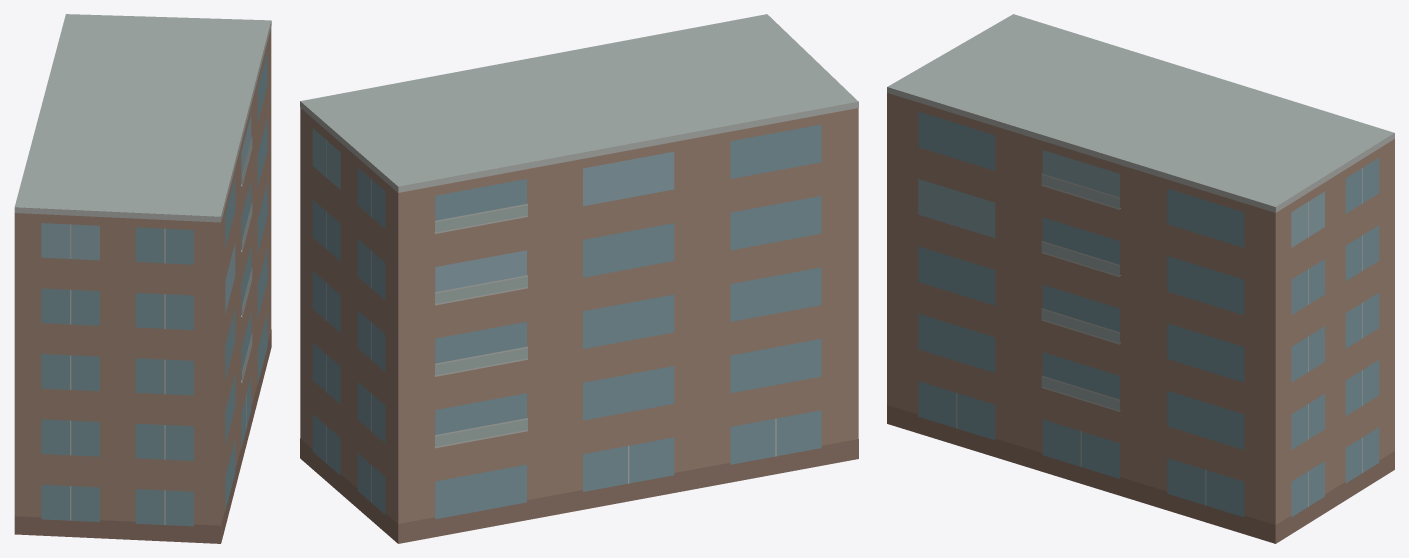
The model's file is survey-upis-32578097.glb.
3 views of the same model, side by side, from view 1: azimuth 30°, elevation 25°; view 2: azimuth 150°, elevation 25°; view 3: azimuth 270°, elevation 25° (orthographic). The views are drawn at different scales.
Parts seen in each view (by area): view 1: survey-upis-32578097.tmp; view 2: survey-upis-32578097.tmp; view 3: survey-upis-32578097.tmp.
Boxes of the visible parts, x1,y1,x2,y2 form: survey-upis-32578097.tmp: (14,14,271,543); survey-upis-32578097.tmp: (300,14,858,543); survey-upis-32578097.tmp: (887,14,1394,543).
Size of the model in its own units: 17.16 by 13.95 by 19.07.
